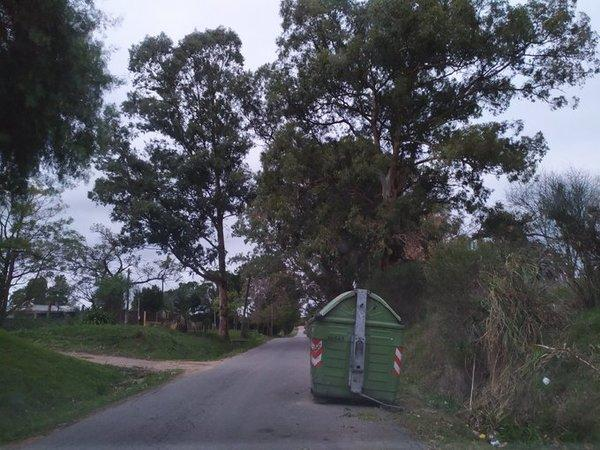Trash: (306, 287, 407, 410)
